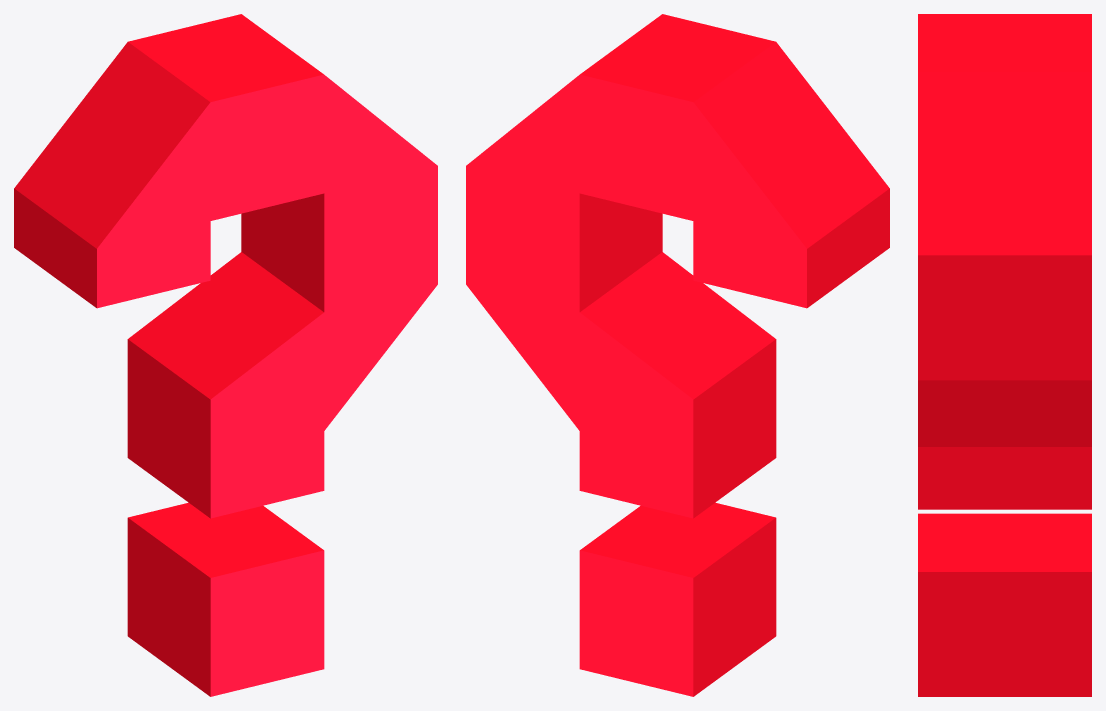
The model's file is 958278db-2acf-49bf-bac3-46cf1f042b47.glb.
3 views of the same model, side by side, from view 1: azimuth 30°, elevation 25°; view 2: azimuth 150°, elevation 25°; view 3: azimuth 270°, elevation 25° (orthographic). The views are drawn at different scales.
Parts seen in each view (by area): view 1: ?_DeltaBlock_Red; view 2: ?_DeltaBlock_Red; view 3: ?_DeltaBlock_Red.
Part boxes in pixels (box(x1,y1,x2,y2)): ?_DeltaBlock_Red: box(14, 14, 437, 696); ?_DeltaBlock_Red: box(466, 14, 889, 696); ?_DeltaBlock_Red: box(918, 14, 1091, 696).
Size of what is drawn, in the model's own units: 0.1071 by 0.1786 by 0.045.
Materials: 2 (2 with a texture image).
